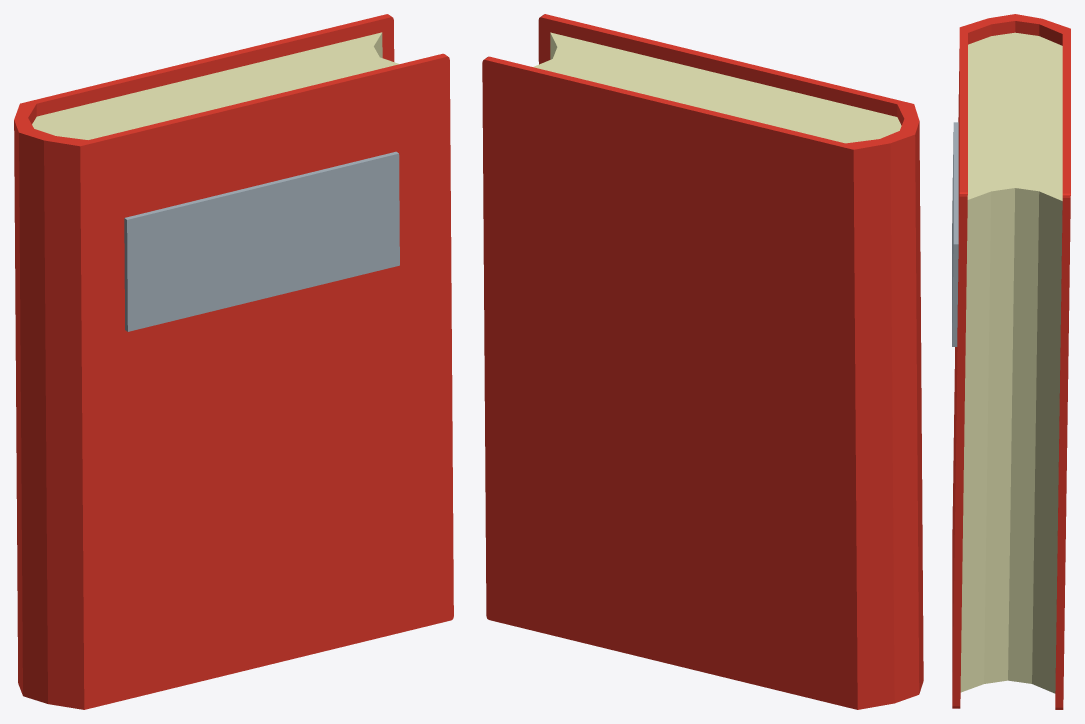
Rendered from bookVanilla.fbx.
The picture shows the model from 3 angles, left to right: view 1: azimuth 30°, elevation 25°; view 2: azimuth 150°, elevation 25°; view 3: azimuth 270°, elevation 25°; orthographic projection. The views are drawn at different scales.
Visible parts, largest first — view 1: book_vanilla; view 2: book_vanilla; view 3: book_vanilla.
Boxes of the visible parts, left/top/right/bottom form: book_vanilla: left=14, top=14, right=453, bottom=709; book_vanilla: left=482, top=14, right=923, bottom=709; book_vanilla: left=952, top=14, right=1070, bottom=709.
Bounding box in the file's own units: 22.44 × 30.07 × 6.25.
